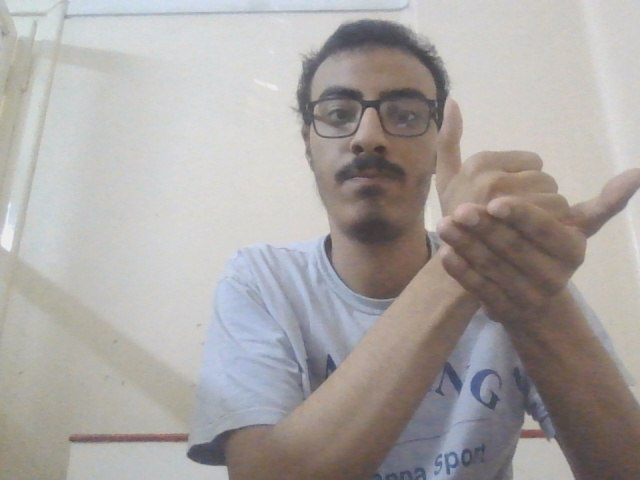Help: (434, 95, 640, 325)
